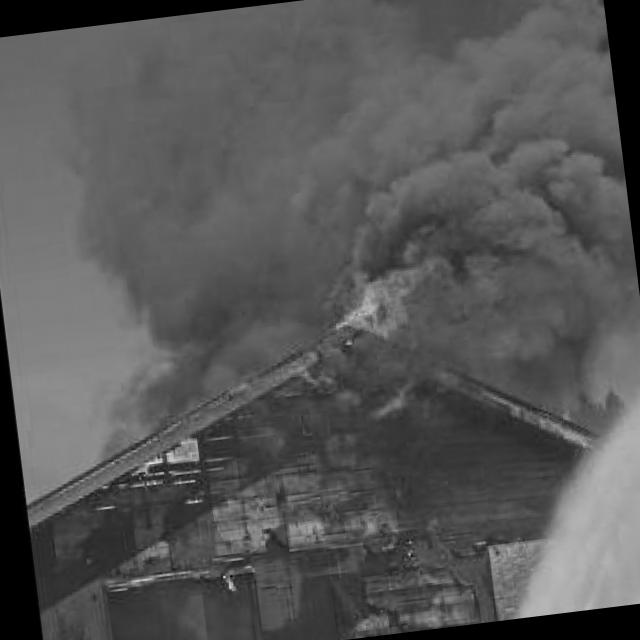fire: (245, 162, 526, 414), (112, 425, 208, 482)
smoke: (58, 0, 640, 429)
